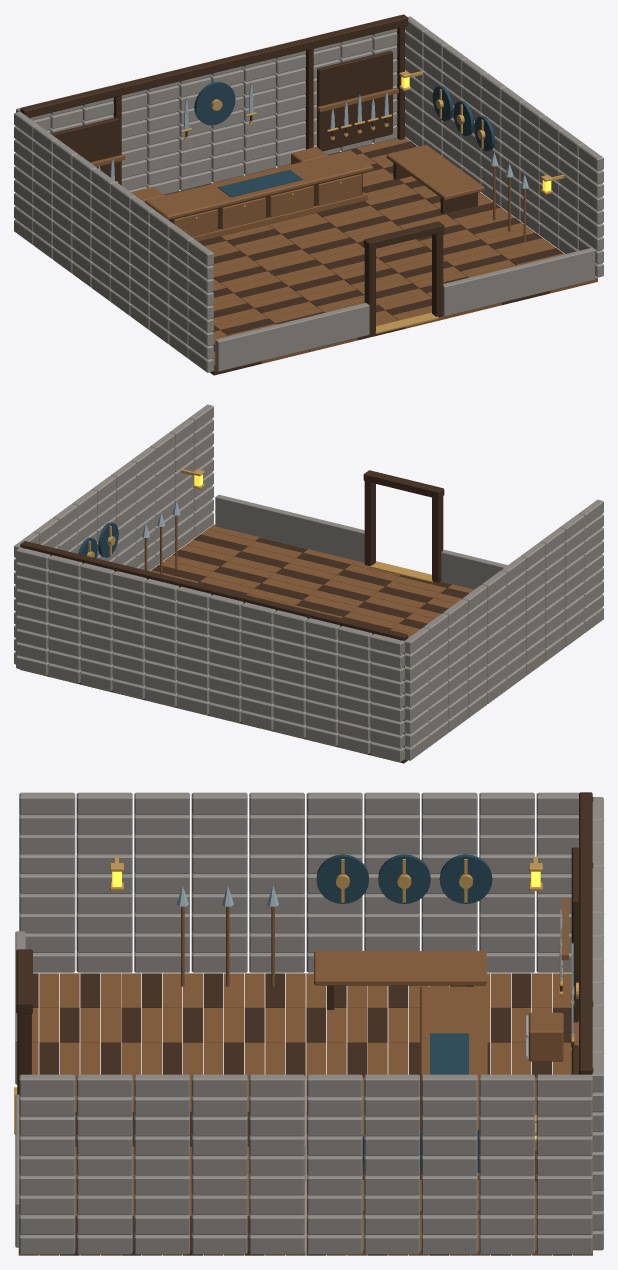
File: Armory-Room.glb
The picture shows the model from 3 angles, top to bottom: view 1: azimuth 30°, elevation 25°; view 2: azimuth 150°, elevation 25°; view 3: azimuth 270°, elevation 25°; orthographic projection. The views are drawn at different scales.
Parts seen in each view (by area): view 1: Armory - Limestone, Armory - Oak, Armory - DarkOak, Armory - Navy, Armory - Brass, Armory - Steel; view 2: Armory - Limestone, Armory - DarkOak, Armory - Oak, Armory - Brass, Armory - Navy; view 3: Armory - Limestone, Armory - Oak, Armory - DarkOak, Armory - Navy, Armory - Brass, Armory - Steel.
Boxes of the visible parts, box(x1,y1,x2,y2) form: Armory - Limestone: box(14, 15, 603, 372); Armory - Oak: box(90, 88, 597, 365); Armory - DarkOak: box(20, 14, 562, 375); Armory - Navy: box(194, 82, 494, 197); Armory - Brass: box(116, 71, 564, 333); Armory - Steel: box(98, 82, 528, 202); Armory - Limestone: box(14, 404, 603, 761); Armory - DarkOak: box(20, 470, 468, 763); Armory - Oak: box(20, 515, 473, 751); Armory - Brass: box(87, 469, 432, 582); Armory - Navy: box(78, 522, 118, 558); Armory - Limestone: box(15, 792, 603, 1254); Armory - Oak: box(18, 898, 592, 1255); Armory - DarkOak: box(16, 792, 593, 1255); Armory - Navy: box(316, 854, 492, 1172); Armory - Brass: box(14, 856, 578, 1142); Armory - Steel: box(176, 885, 573, 1059).
Bounding box in the file's own units: 16.54 × 5.02 × 14.37.
